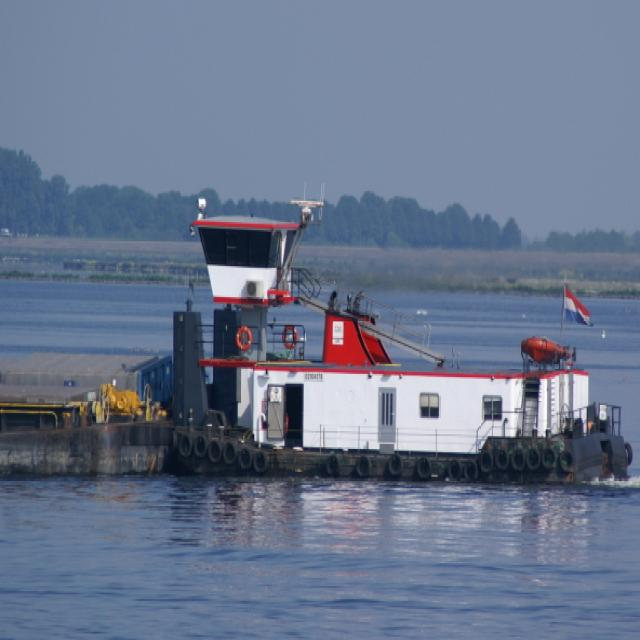tugboat: (139, 197, 640, 497)
